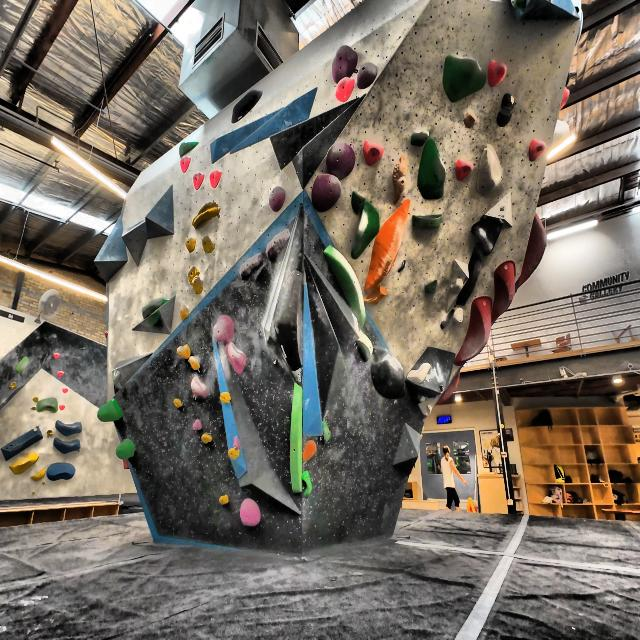Hold: (516, 207, 551, 291), (455, 296, 492, 364), (489, 260, 523, 326), (371, 344, 406, 406), (446, 54, 484, 102), (456, 242, 484, 306), (420, 140, 445, 200), (289, 383, 302, 497), (319, 145, 357, 181), (477, 147, 502, 199), (469, 212, 501, 252), (435, 366, 464, 410), (312, 173, 340, 212), (263, 226, 292, 262), (550, 115, 574, 153), (95, 395, 124, 426), (332, 46, 356, 82), (192, 200, 220, 230), (236, 253, 265, 281), (9, 450, 38, 477), (240, 495, 263, 529), (407, 360, 434, 388), (223, 344, 249, 373), (483, 62, 509, 90), (46, 459, 76, 482), (212, 313, 234, 344), (115, 435, 136, 464), (140, 297, 170, 317), (362, 139, 384, 166), (268, 183, 287, 214), (358, 60, 378, 89), (34, 394, 59, 416), (54, 418, 84, 436), (51, 437, 81, 455), (499, 96, 514, 130), (334, 79, 354, 103), (454, 156, 472, 182), (189, 375, 207, 401), (559, 84, 574, 114), (410, 213, 442, 227), (301, 440, 318, 465), (524, 142, 544, 162), (175, 157, 195, 176), (321, 415, 333, 445), (301, 471, 314, 498), (412, 129, 430, 148), (18, 356, 32, 378), (31, 468, 48, 485), (188, 353, 204, 371), (200, 233, 214, 253), (190, 173, 206, 190), (174, 344, 191, 360), (206, 170, 222, 186), (426, 279, 440, 297), (454, 306, 465, 327), (186, 232, 196, 255), (193, 275, 203, 298), (186, 265, 198, 284), (191, 417, 204, 433), (232, 434, 245, 450), (450, 278, 463, 294), (218, 390, 232, 403), (227, 448, 239, 462), (180, 300, 188, 320), (172, 394, 182, 408), (219, 494, 229, 506), (31, 425, 44, 434), (200, 433, 212, 442), (57, 369, 66, 380), (50, 352, 60, 361), (62, 385, 70, 396), (9, 381, 18, 390), (32, 396, 40, 403), (28, 406, 37, 412), (58, 402, 67, 408), (48, 428, 53, 436)
